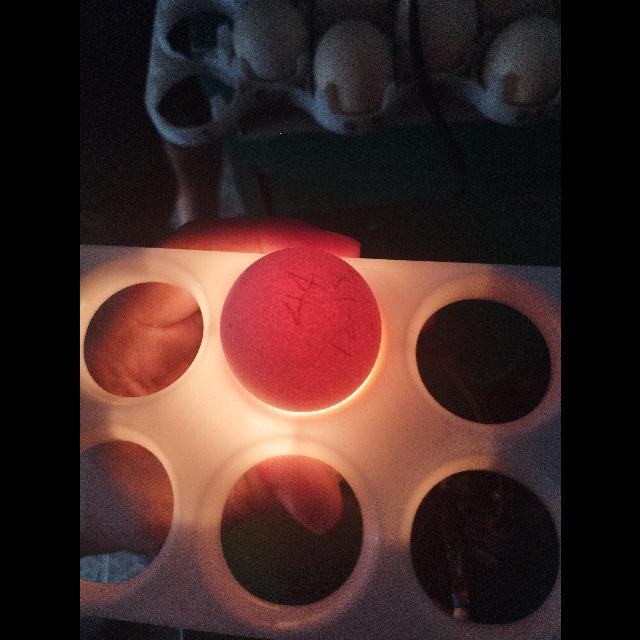Infertile: (216, 242, 384, 418)
